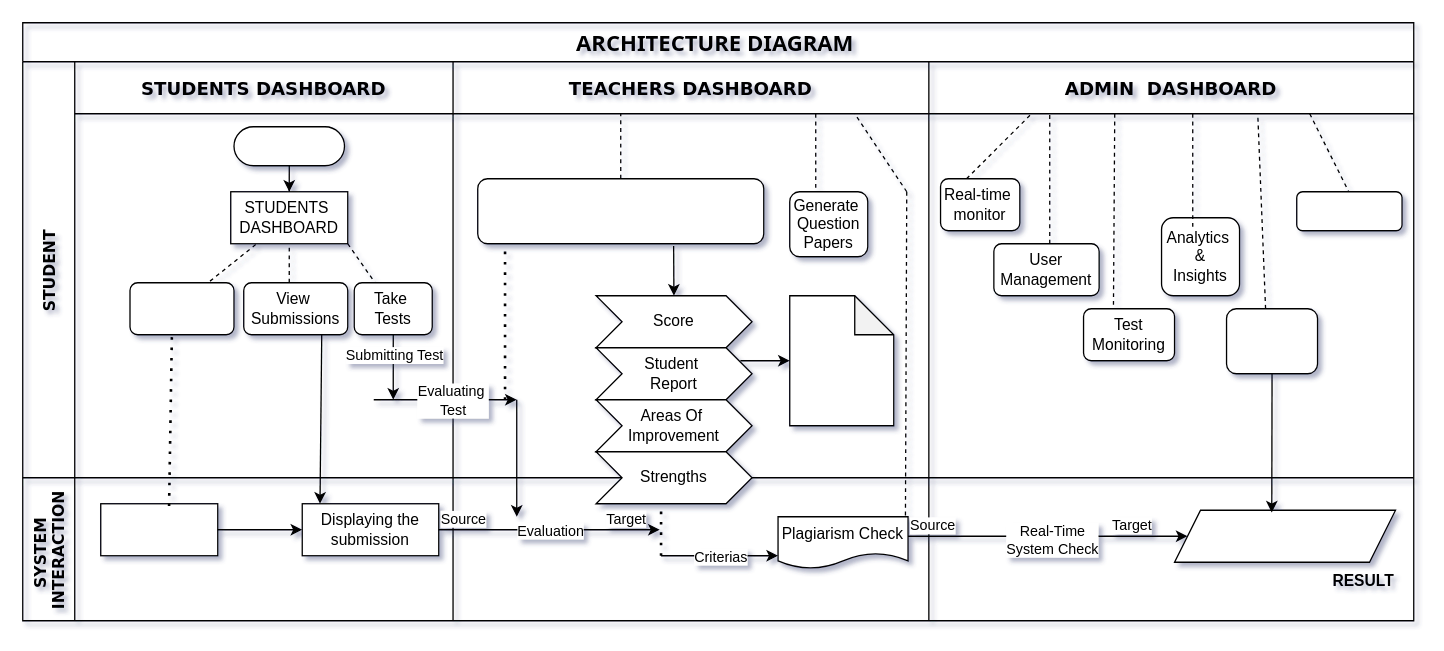
Some shapes in this 1444 by 651 pixel diagram are drawn without their labels. Each missing label, with the centre of its shape:
"Alerts & Logs" goes at [1348,210].
"Assignment Submission" goes at [158,529].
"Evaluate Tests/Assignments/Exams/Projects" goes at [620,210].
"Manual Controls" goes at [1284,535].
"Personalized Feedback" goes at [841,360].
"Signup/Login" goes at [288,145].
"Submit Documents" goes at [181,308].
"System Controls" goes at [1271,340].
